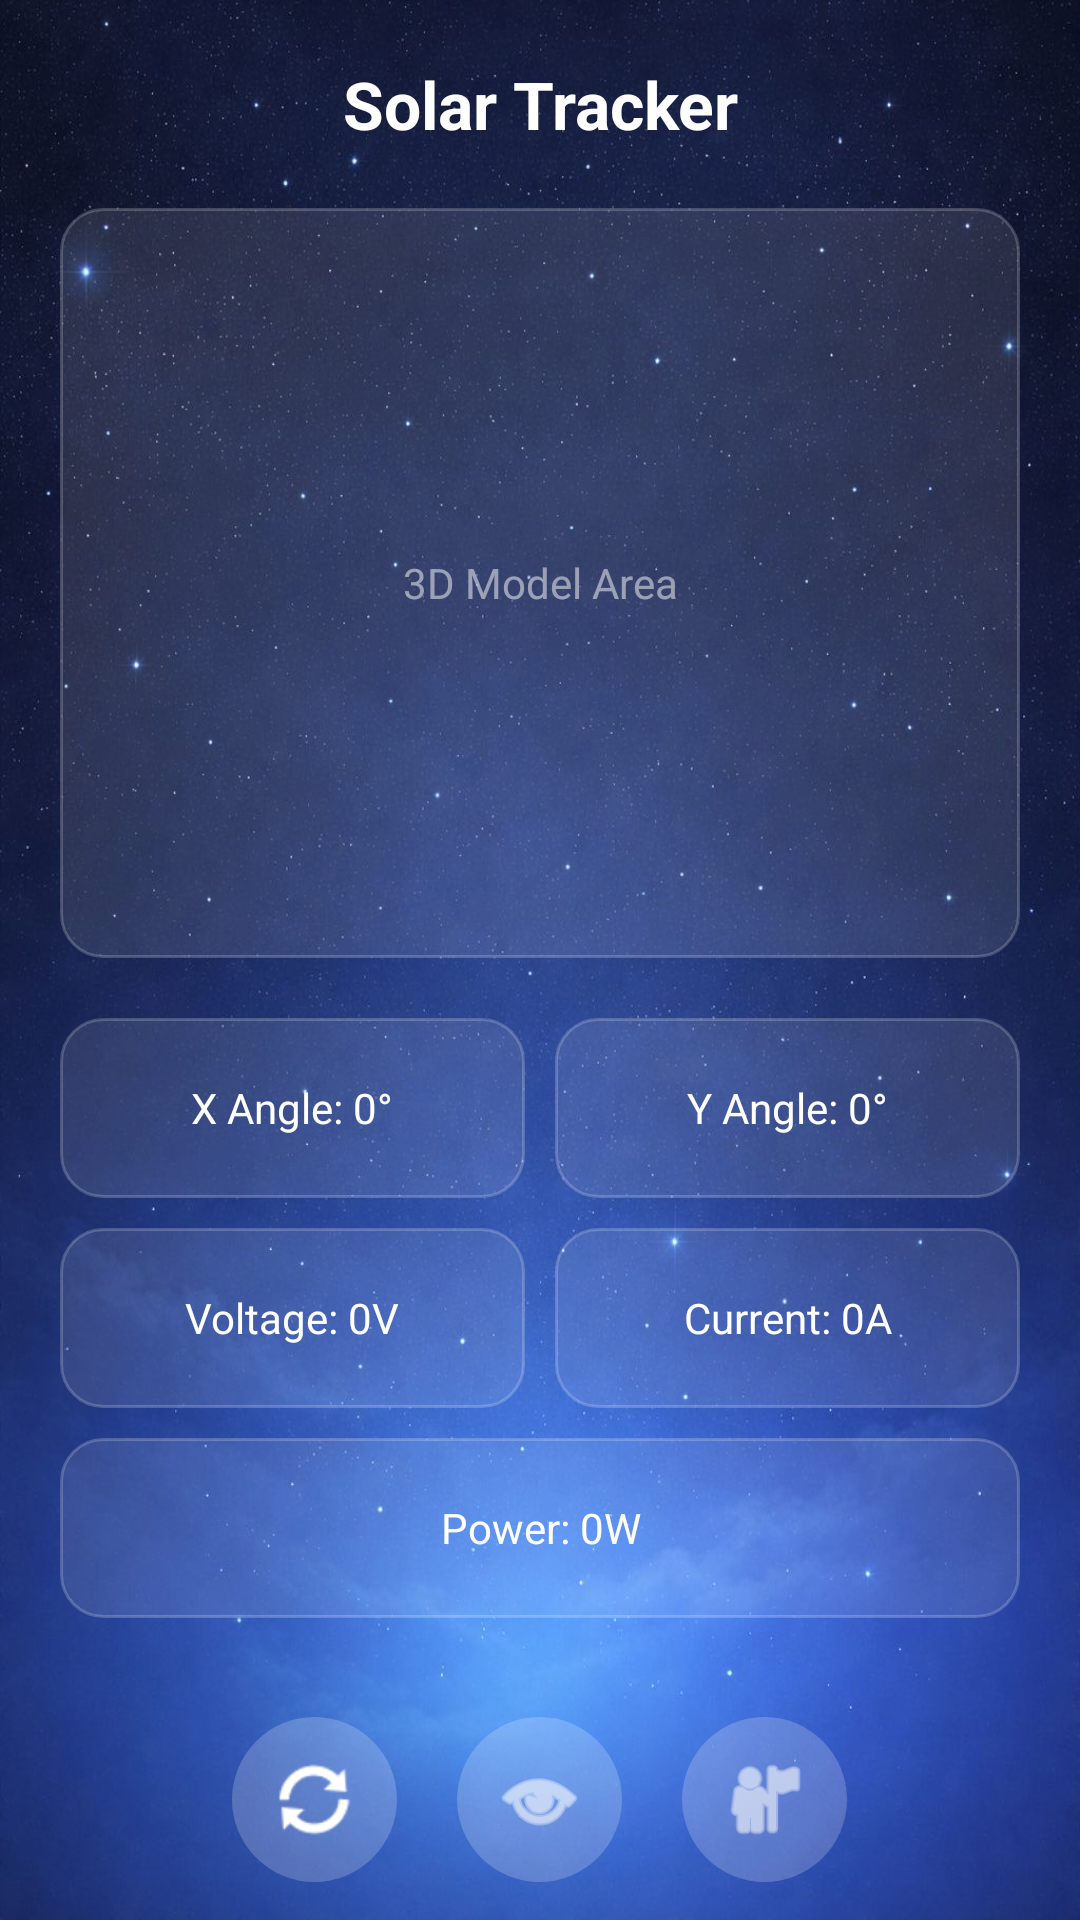

Icons on this 1080×1920 Android screen, each with the point to tap as point (x, y):
myplaces: point (764, 1799)
popup sync: point (314, 1799)
view: point (539, 1799)
